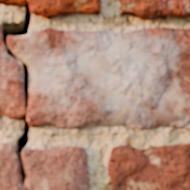brick: (108, 144, 189, 189), (120, 0, 189, 19)
broken_brick: (8, 26, 189, 129), (0, 142, 87, 189), (0, 35, 26, 119), (0, 0, 101, 19)
crack: (0, 2, 32, 187), (86, 165, 88, 185)
